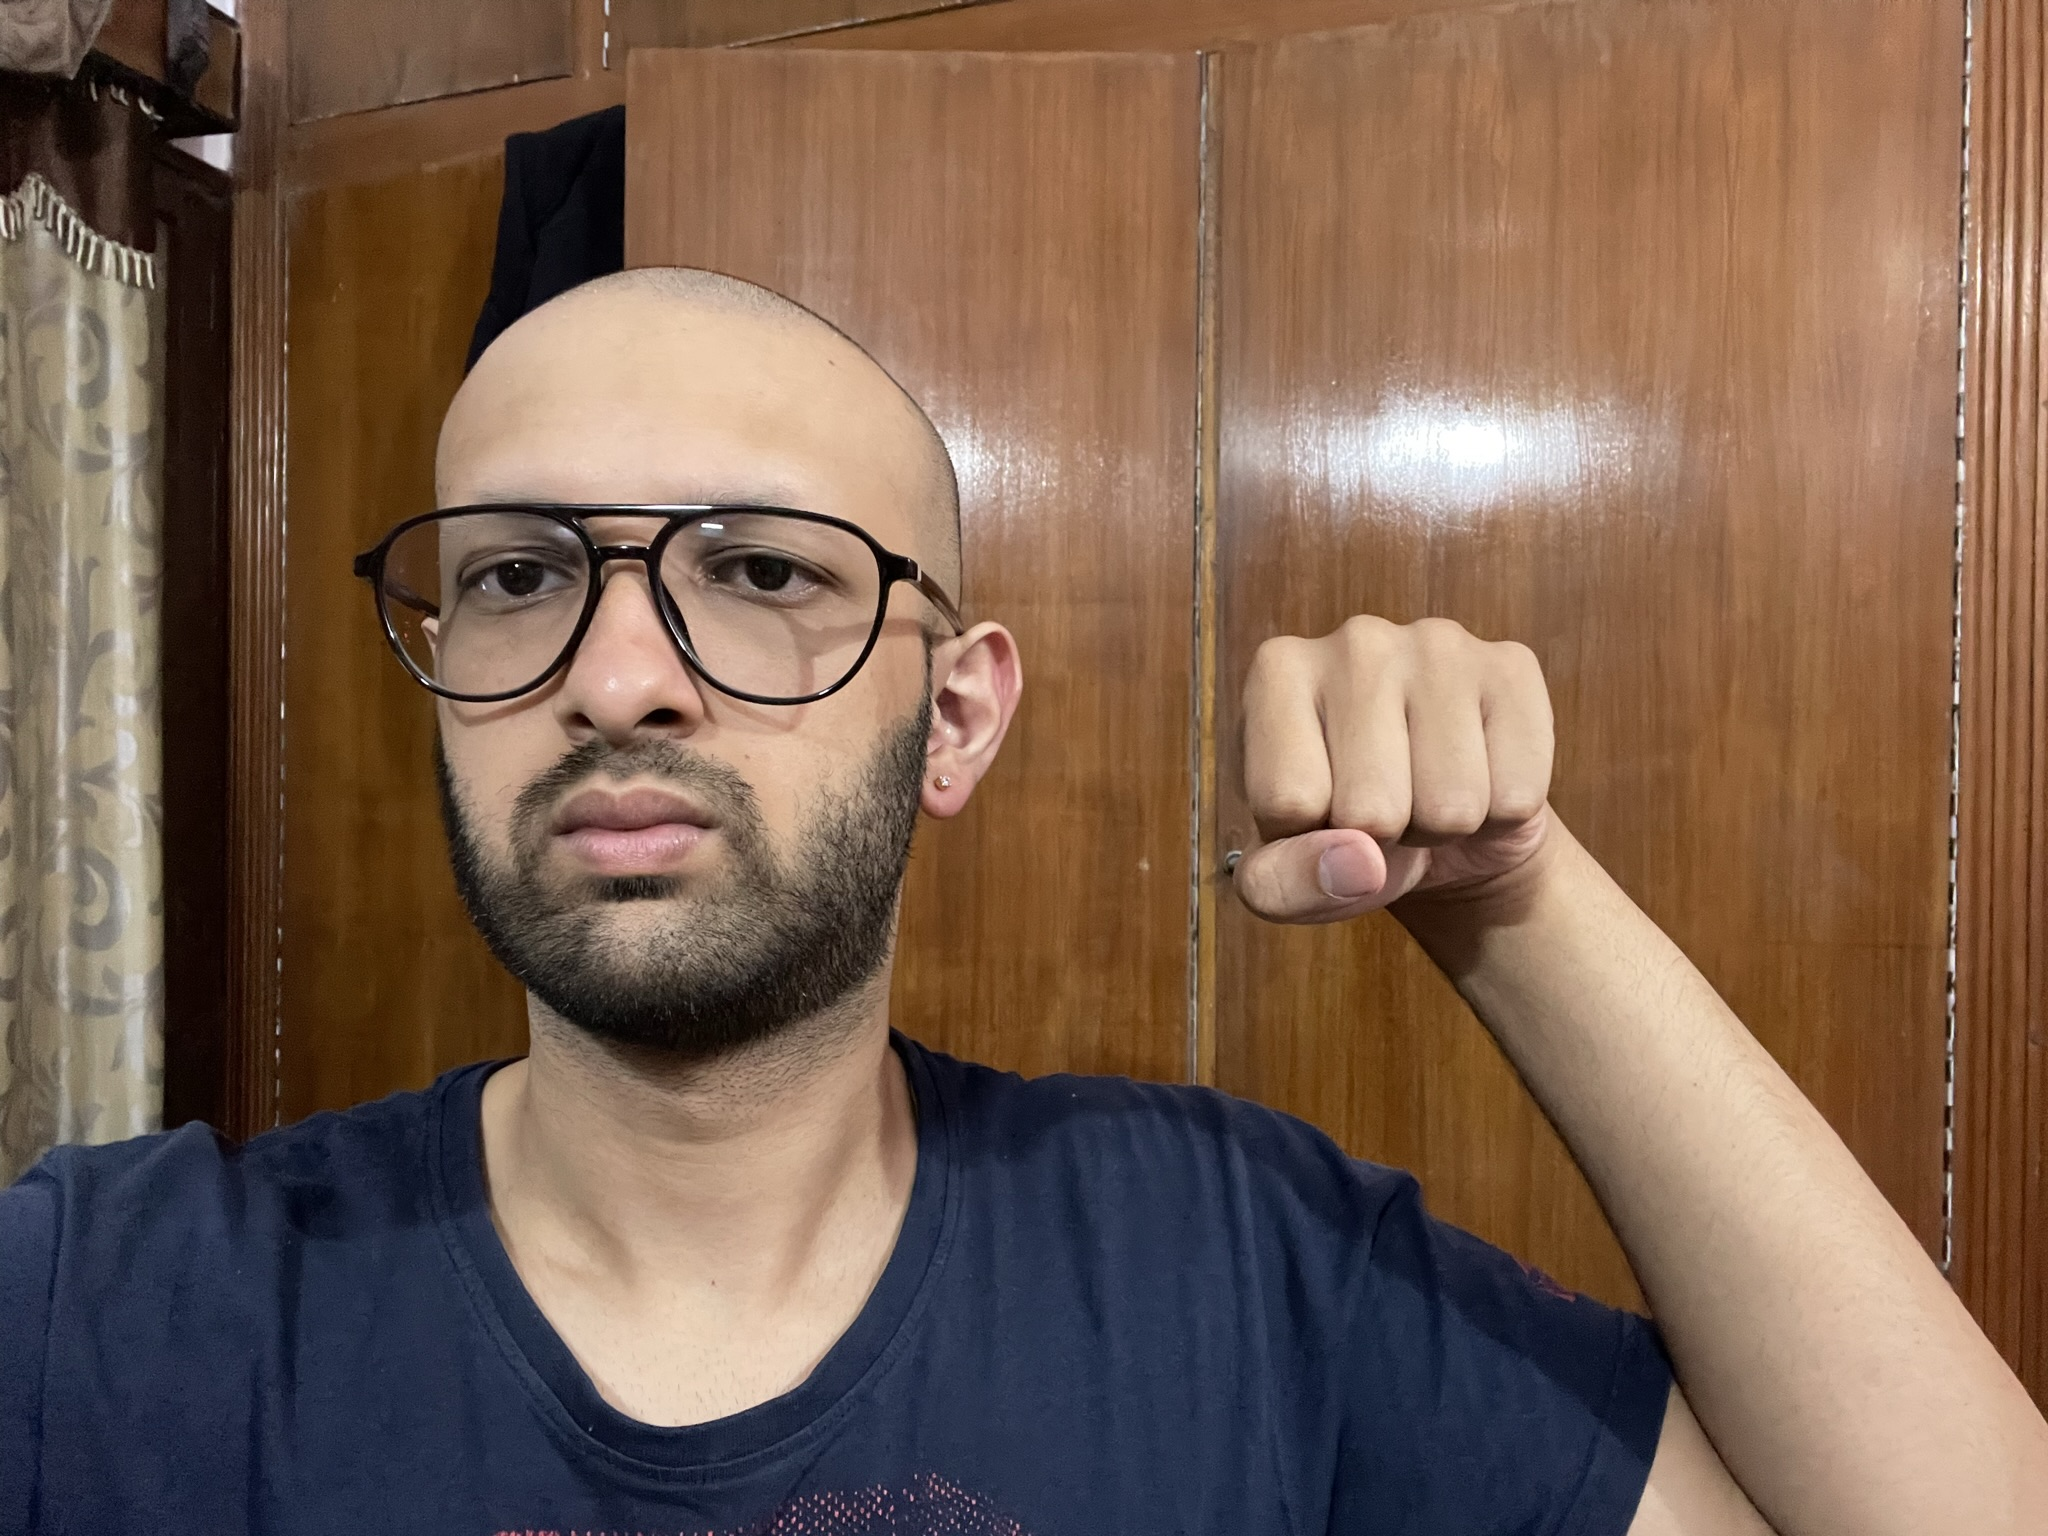Yes: (1229, 603, 1572, 929)
